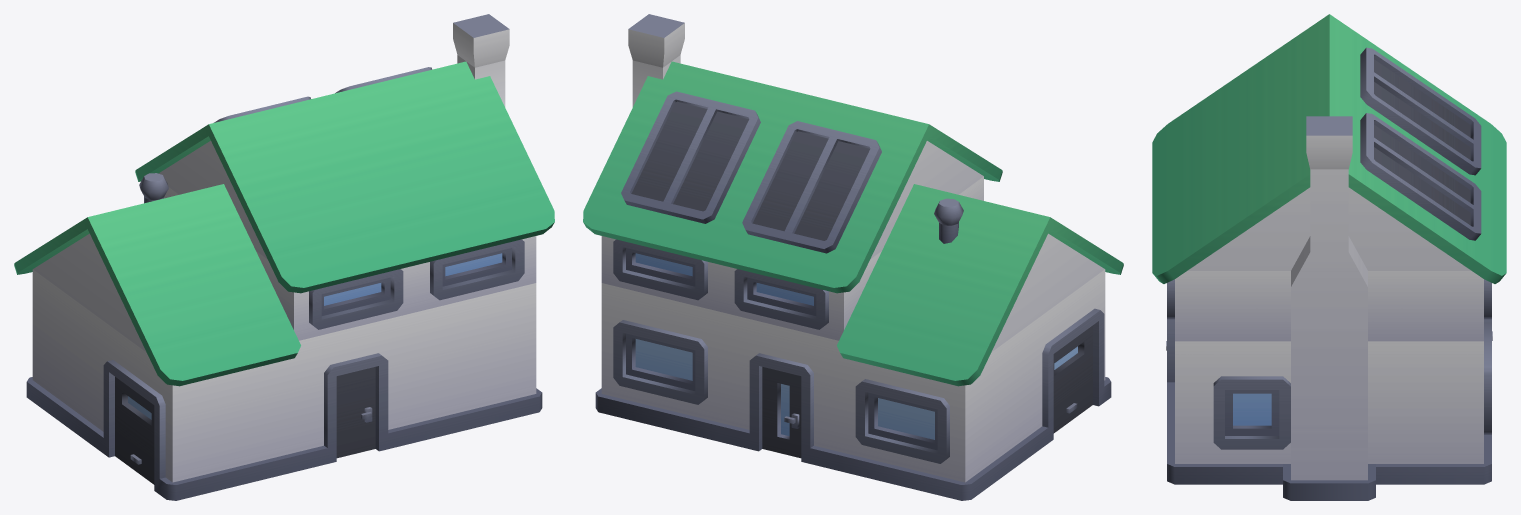
Rendered from house_9.fbx.
3 views of the same model, side by side, from view 1: azimuth 30°, elevation 25°; view 2: azimuth 150°, elevation 25°; view 3: azimuth 270°, elevation 25° (orthographic). The views are drawn at different scales.
Visible parts, largest first — view 1: house_9; view 2: house_9; view 3: house_9.
Part boxes in pixels (<box>): house_9: <box>14,14,554,500</box>; house_9: <box>583,14,1123,500</box>; house_9: <box>1152,14,1506,500</box>.
Size of the model in its own units: 1.37 by 1.04 by 0.916.
1 material, 1 textured.
